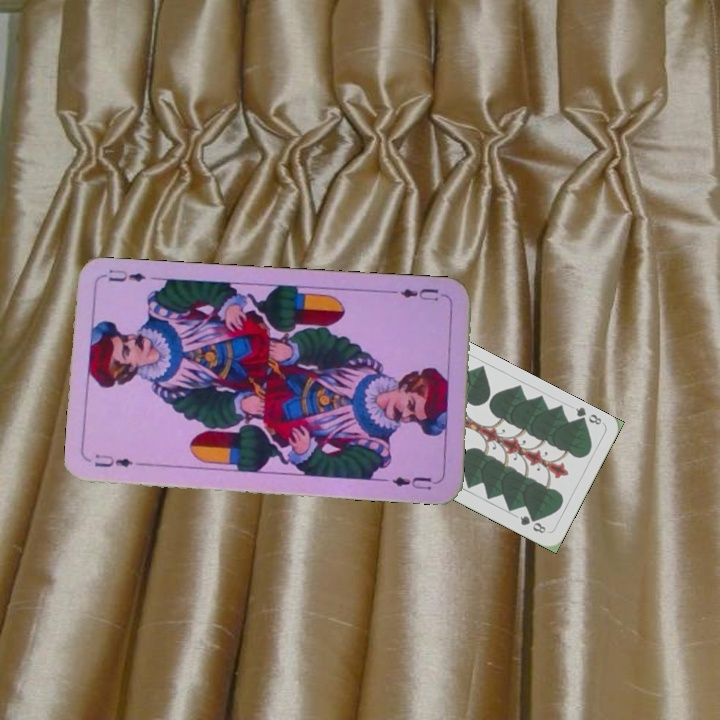EU: (90, 450, 148, 470), (389, 284, 441, 304)
G8: (571, 403, 604, 428)
